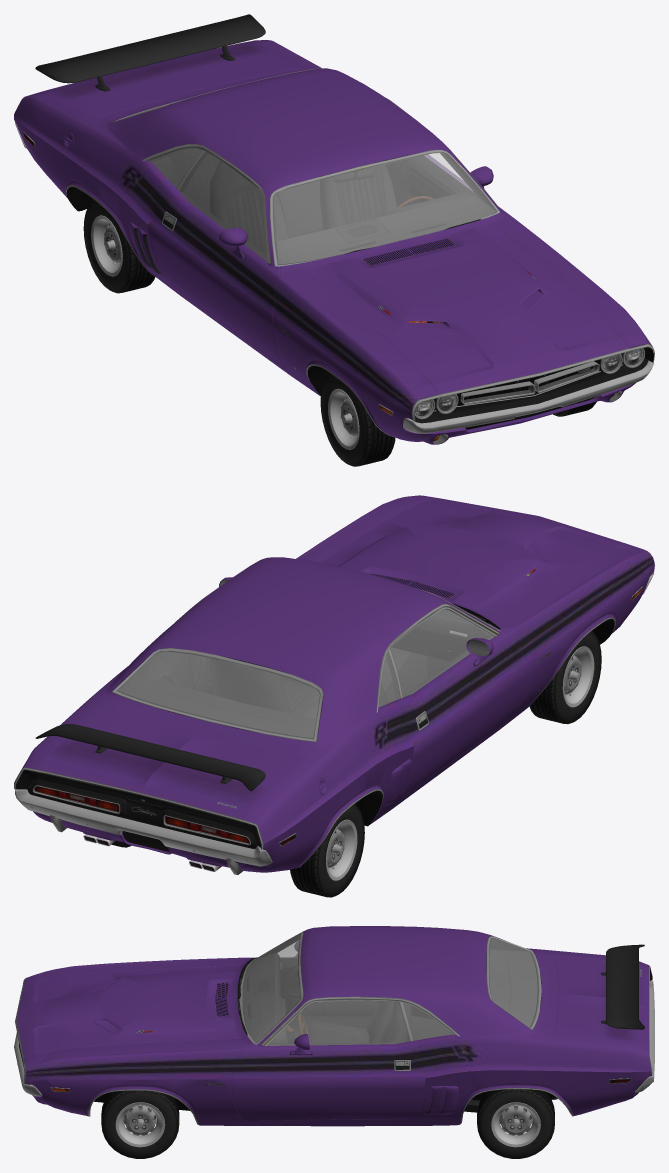
File: gt_chall_hi.glb
The picture shows the model from 3 angles, top to bottom: view 1: azimuth 30°, elevation 25°; view 2: azimuth 150°, elevation 25°; view 3: azimuth 270°, elevation 25°; orthographic projection. The views are drawn at different scales.
Visible parts, largest first — view 1: Object_34, Object_52, Object_44, Object_80, Object_16, Object_38, Object_88, Object_42, Object_60, Object_50, Object_94, WHEEL_RF_TIRE (+8 smaller); view 2: Object_34, Object_52, Object_44, Object_38, Object_16, Object_36, Object_88, Object_112, Object_60, Object_42, Object_50, WHEEL_RR_TIRE (+7 smaller); view 3: Object_34, Object_52, Object_84, Object_44, Object_38, Object_66, Object_80, Object_36, WHEEL_LR_TIRE, WHEEL_LF_TIRE, Object_42, Object_50 (+9 smaller).
Part boxes in pixels (x1,y1,x2,y2): Object_34: (14, 40, 654, 444); Object_52: (299, 217, 628, 394); Object_44: (137, 108, 496, 264); Object_80: (274, 153, 496, 264); Object_16: (148, 185, 284, 368); Object_38: (40, 42, 301, 117); Object_88: (22, 131, 653, 435); Object_42: (35, 14, 265, 91); Object_60: (179, 152, 267, 261); Object_50: (112, 68, 654, 444); Object_94: (403, 360, 654, 433); WHEEL_RF_TIRE: (320, 373, 395, 466); Object_34: (14, 495, 654, 872); Object_52: (320, 498, 628, 620); Object_44: (45, 609, 495, 820); Object_38: (40, 708, 300, 818); Object_16: (398, 628, 534, 797); Object_36: (118, 652, 319, 737); Object_88: (16, 586, 642, 867); Object_112: (15, 789, 272, 874); Object_60: (390, 609, 494, 697); Object_42: (35, 724, 265, 791); Object_50: (14, 589, 500, 849); WHEEL_RR_TIRE: (290, 804, 364, 897); Object_34: (24, 926, 651, 1126); Object_52: (16, 963, 246, 1057); Object_84: (231, 1040, 425, 1120); Object_44: (242, 933, 541, 1043); Object_38: (554, 955, 648, 1047); Object_66: (267, 1001, 409, 1045); Object_80: (242, 933, 300, 1042); Object_36: (489, 938, 537, 1026); WHEEL_LR_TIRE: (477, 1089, 554, 1158); WHEEL_LF_TIRE: (101, 1090, 179, 1158); Object_42: (601, 944, 644, 1029); Object_50: (22, 931, 652, 1083).
Size of the model in its own units: 1.85 by 1.32 by 4.76.
Materials: 10 (9 with a texture image).
